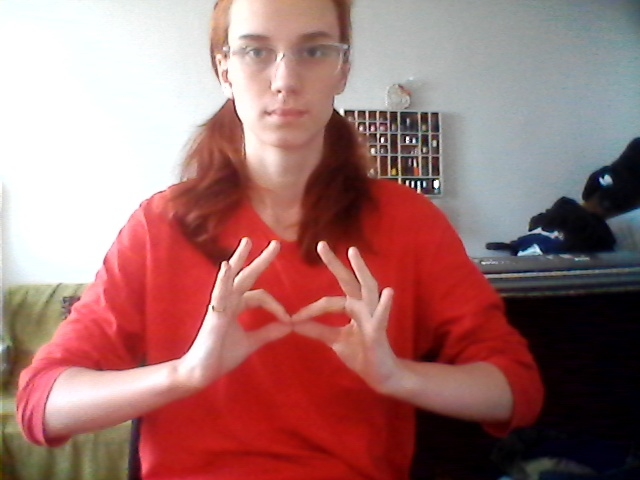b: (183, 227, 408, 410)
